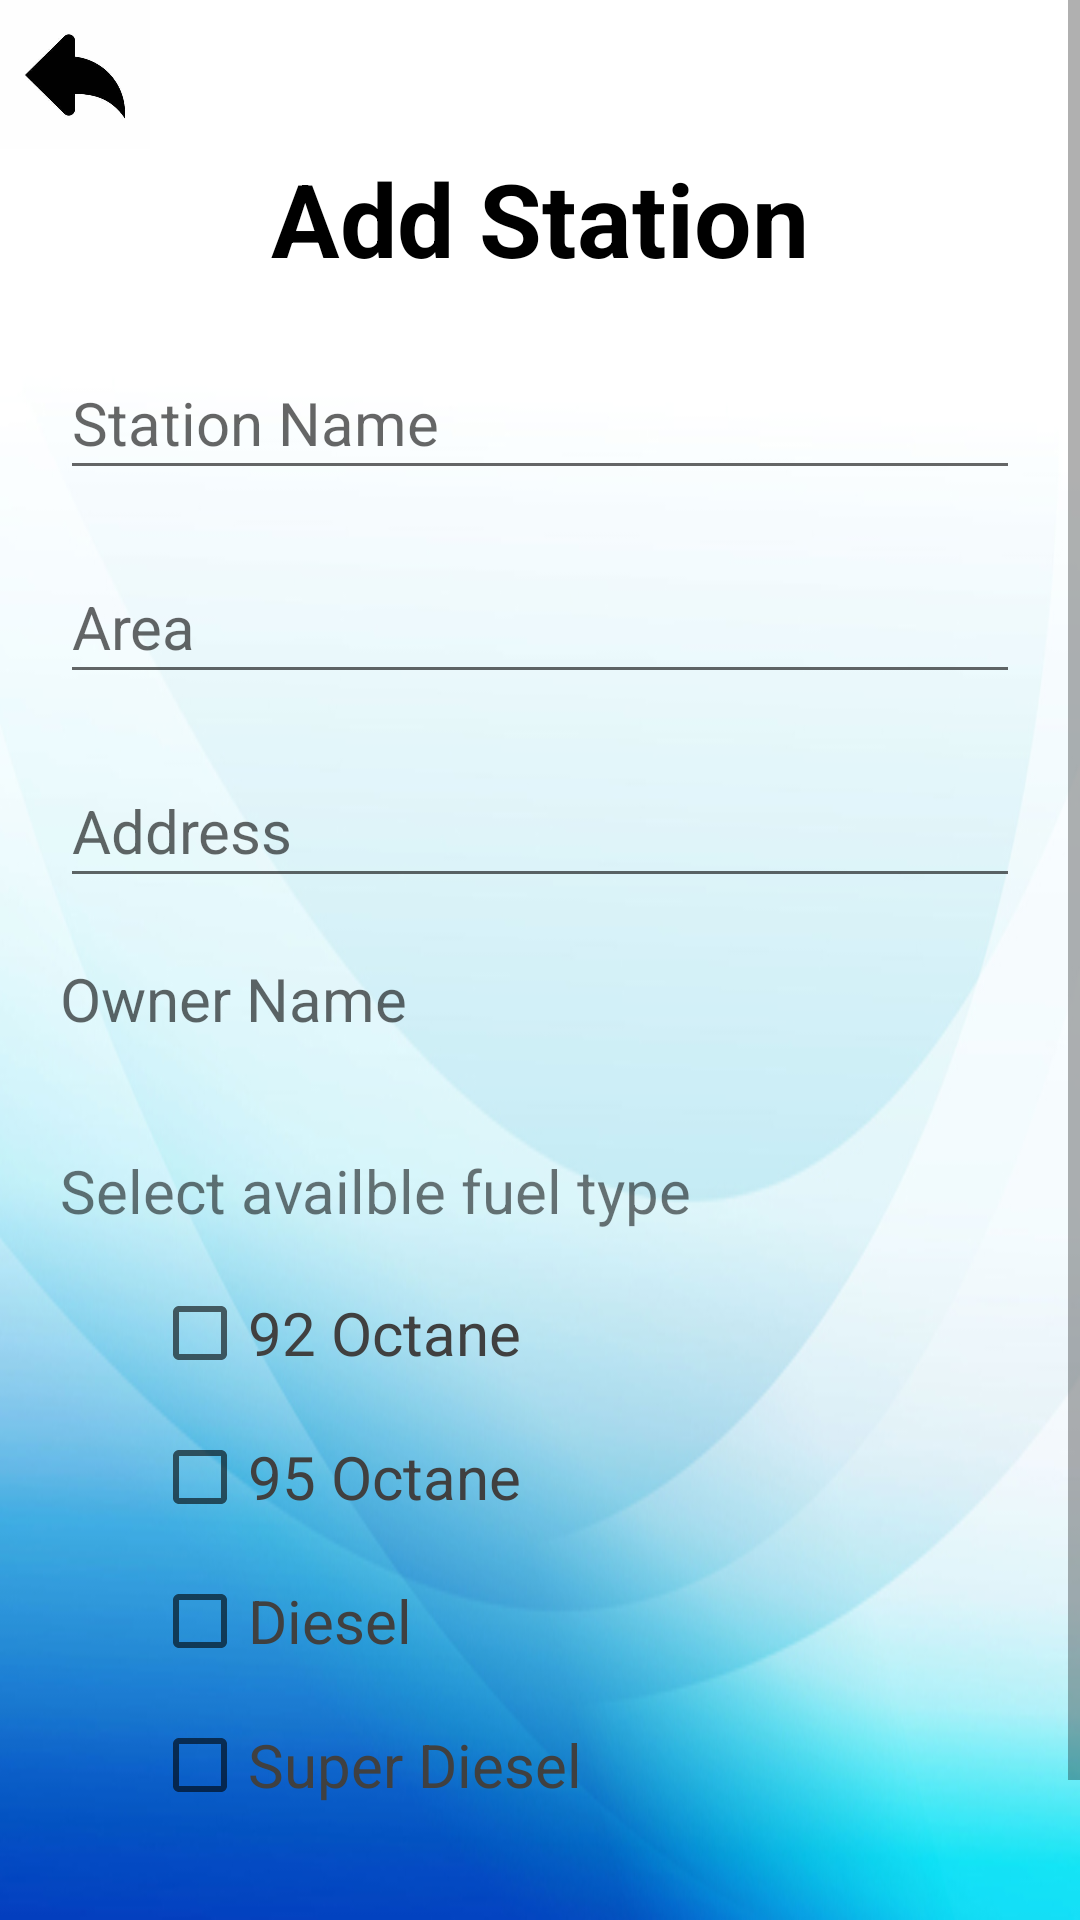

Screen size 1080px×1920px. Icon name, then its box in pixels as (x1, y1, x2, y2):
back: (25, 34, 125, 118)
